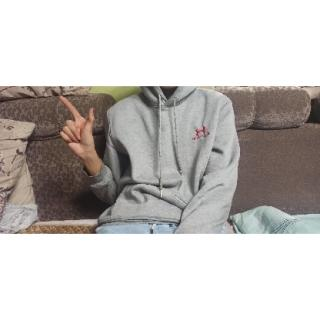LAAM: (52, 92, 100, 161)
